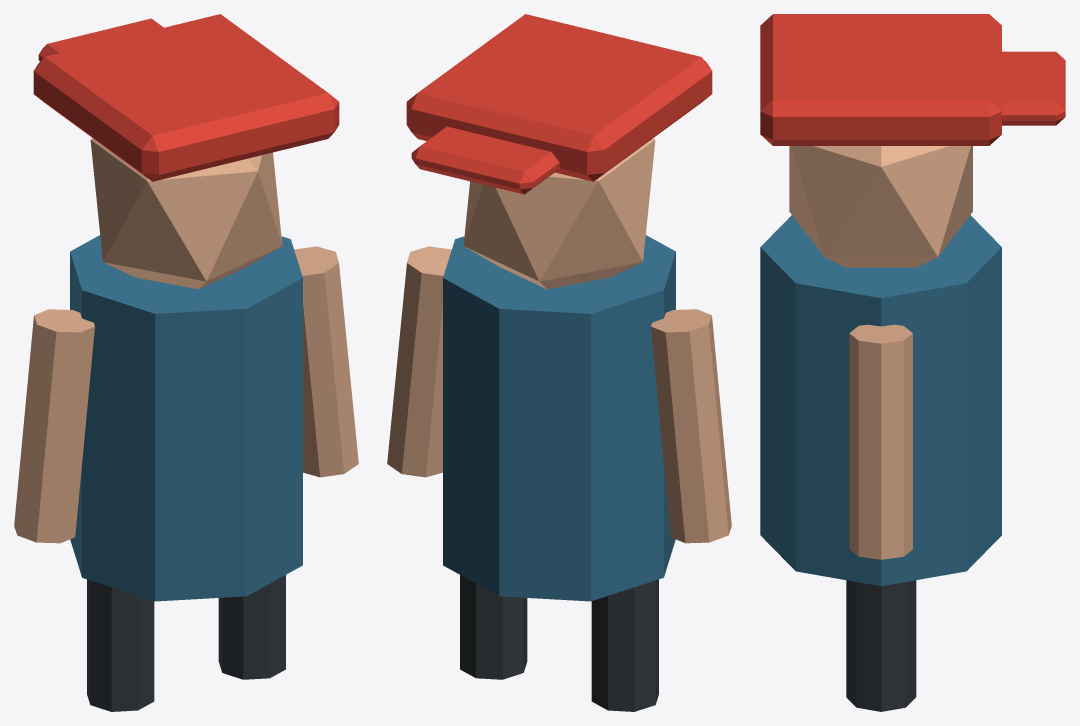
Rendered from worker.glb.
The picture shows the model from 3 angles, left to right: view 1: azimuth 30°, elevation 25°; view 2: azimuth 150°, elevation 25°; view 3: azimuth 270°, elevation 25°; orthographic projection.
Parts seen in each view (by area): view 1: Body, Cap, Head, Arm, Arm.001, Leg, Leg.001, CapPeak; view 2: Body, Cap, Head, Arm, Arm.001, Leg, CapPeak, Leg.001; view 3: Body, Cap, Head, Arm.001, Leg.001, CapPeak.
Boxes of the visible parts, x1,y1,x2,y2 form: Body: (70, 235, 302, 601); Cap: (33, 14, 339, 181); Head: (90, 138, 282, 289); Arm: (14, 309, 94, 543); Arm.001: (294, 246, 358, 477); Leg: (87, 579, 154, 711); Leg.001: (218, 575, 285, 679); CapPeak: (38, 18, 163, 61); Body: (443, 235, 675, 601); Cap: (406, 14, 712, 181); Head: (463, 138, 655, 289); Arm: (651, 309, 731, 543); Arm.001: (387, 246, 451, 477); Leg: (591, 579, 658, 711); CapPeak: (411, 126, 559, 194); Leg.001: (460, 575, 527, 679); Body: (760, 215, 1001, 586); Cap: (760, 14, 1001, 145); Head: (789, 146, 972, 267); Arm.001: (849, 324, 912, 559); Leg.001: (846, 580, 916, 711); CapPeak: (1002, 51, 1065, 125).
Size of the model in its own units: 1.23 by 2.11 by 0.96.
